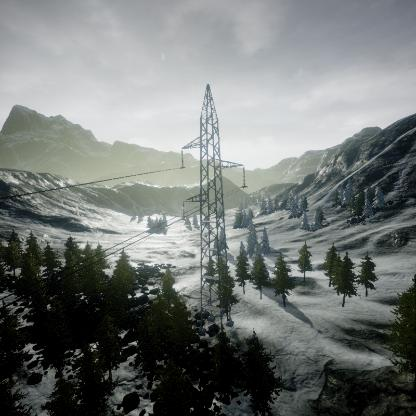tower: (177, 82, 249, 327)
